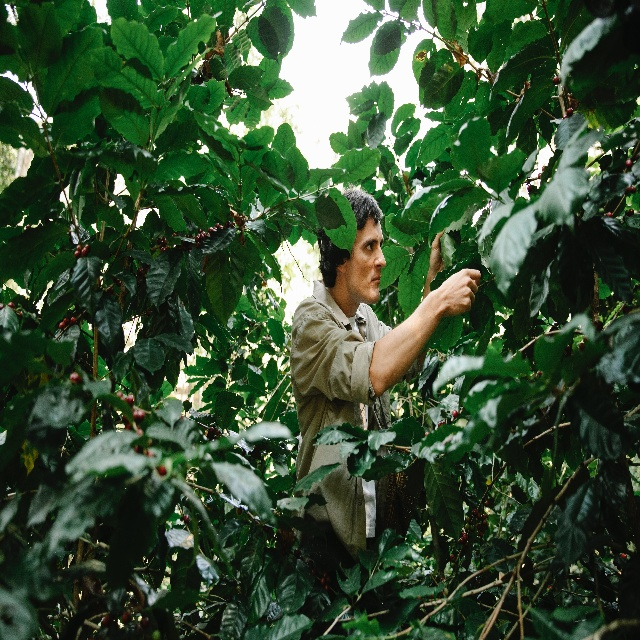Sin_guantes: (438, 266, 481, 318), (429, 232, 444, 272)
